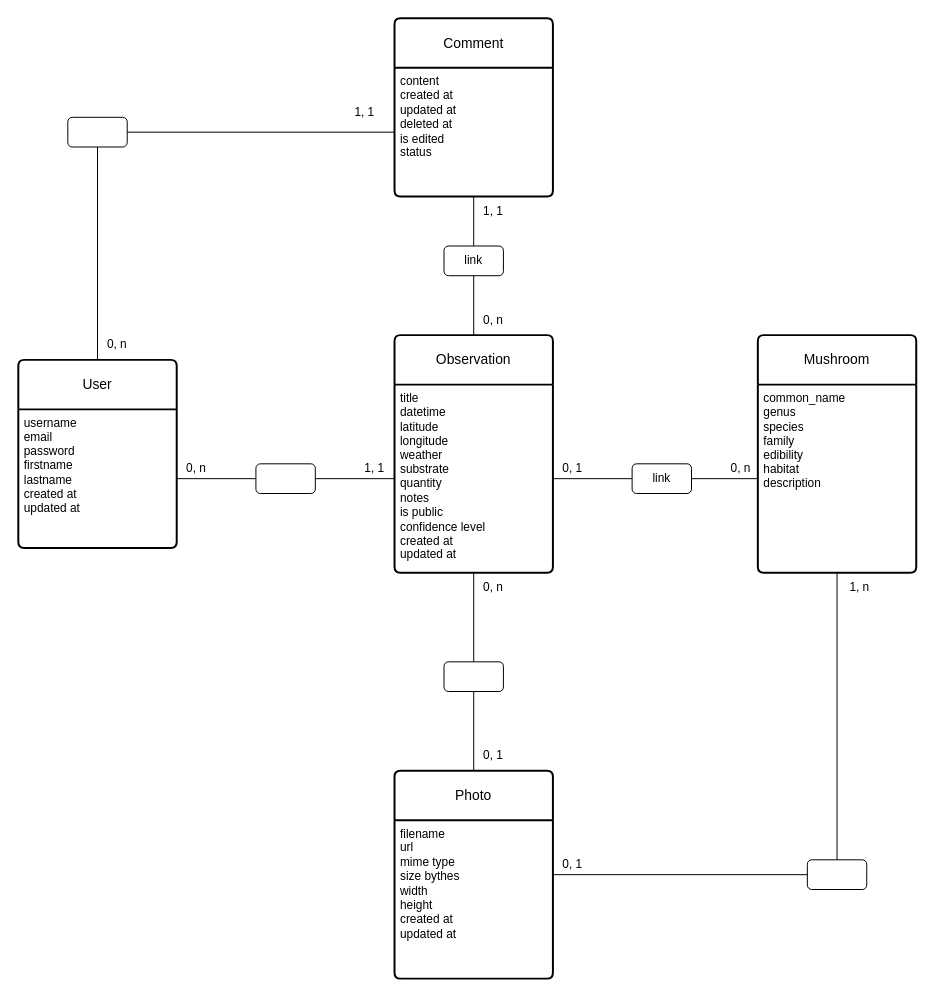
This 934x996 diagram has some shape labels left out. The shapes that lost their labels are listed below. From the top down, each one's centre as x and y in pixels, then its label:
At point (97, 131): "write".
At point (285, 478): "make".
At point (473, 676): "have".
At point (836, 874): "illustrate".
